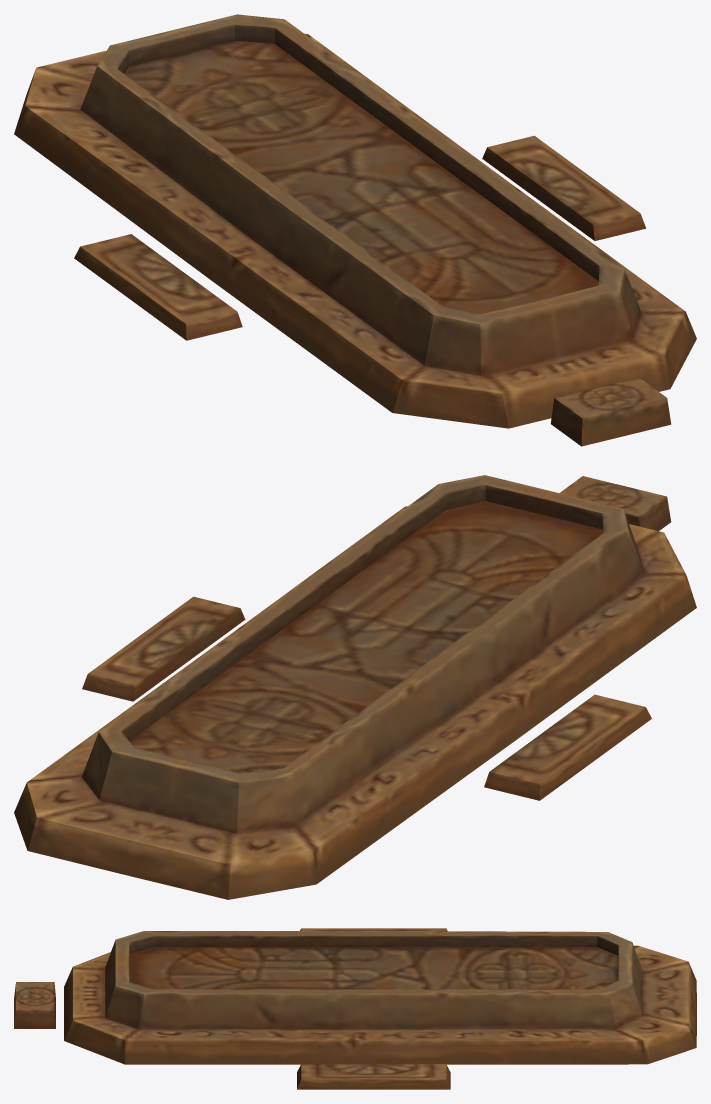
File: shakian_construct_tombtile02_01.FBX
3 renders of one model, top to bottom at view 1: azimuth 30°, elevation 25°; view 2: azimuth 150°, elevation 25°; view 3: azimuth 270°, elevation 25°, orthographic. The views are drawn at different scales.
Visible parts, largest first — view 1: shakian_construct_tombtile02_01; view 2: shakian_construct_tombtile02_01; view 3: shakian_construct_tombtile02_01.
Part boxes in pixels (x1,y1,x2,y2): shakian_construct_tombtile02_01: [14, 14, 696, 446]; shakian_construct_tombtile02_01: [14, 475, 696, 899]; shakian_construct_tombtile02_01: [14, 928, 696, 1089].
Bounding box in the file's own units: 4.43 × 0.6843 × 8.35.
